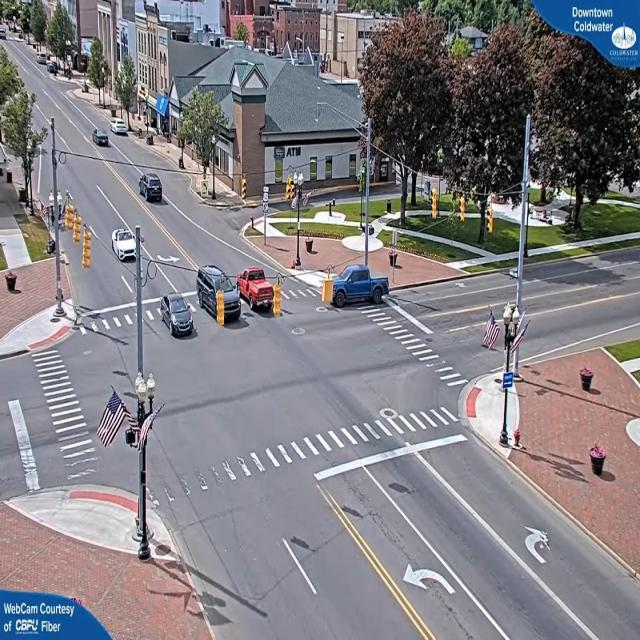car: (332, 266, 391, 309), (240, 267, 276, 316), (159, 296, 195, 340), (111, 228, 138, 263), (140, 174, 165, 204), (112, 120, 128, 136)
